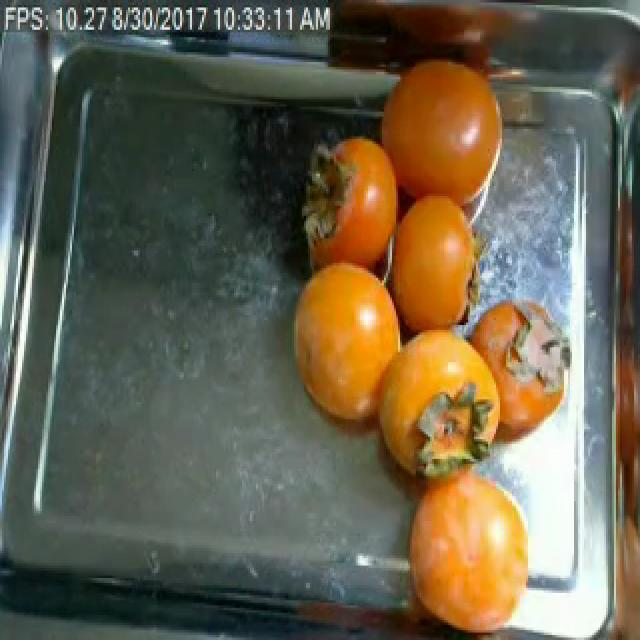Fruit: (384, 446, 548, 640), (364, 37, 512, 233), (276, 250, 414, 452)
